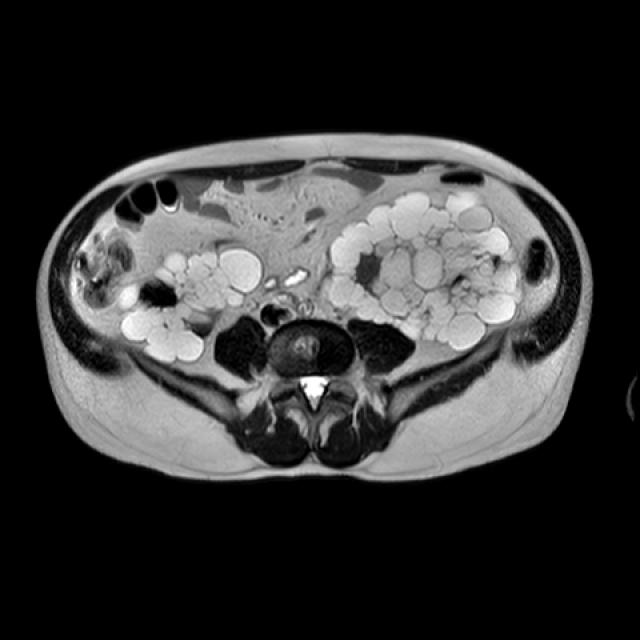sag: (113, 249, 265, 364)
sol: (322, 189, 526, 352)
